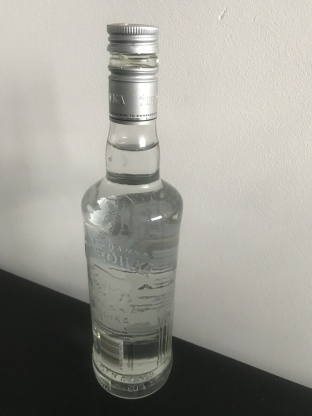nakretka: (105, 20, 160, 124)
